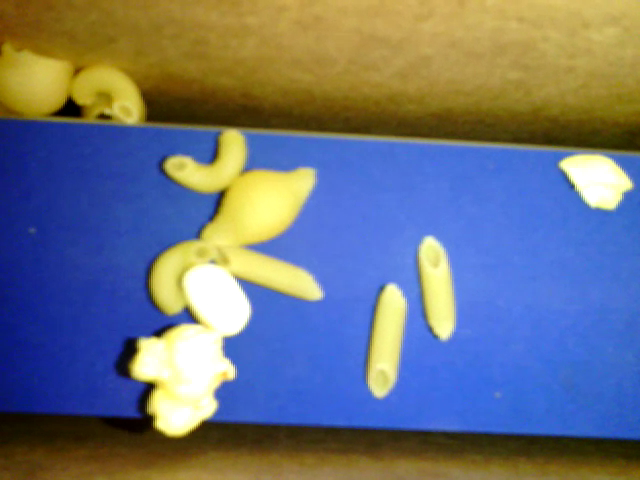elbow: (162, 131, 246, 194), (150, 241, 212, 316), (72, 64, 139, 121)
penne: (208, 241, 323, 300), (367, 284, 406, 396), (417, 234, 456, 340)
shell: (198, 167, 316, 246), (1, 43, 74, 115), (82, 92, 145, 122)
